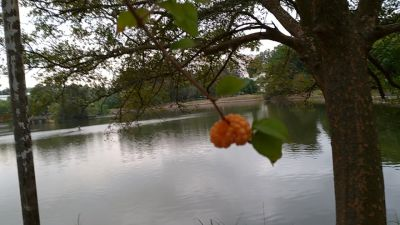eggs: (208, 112, 254, 149)
